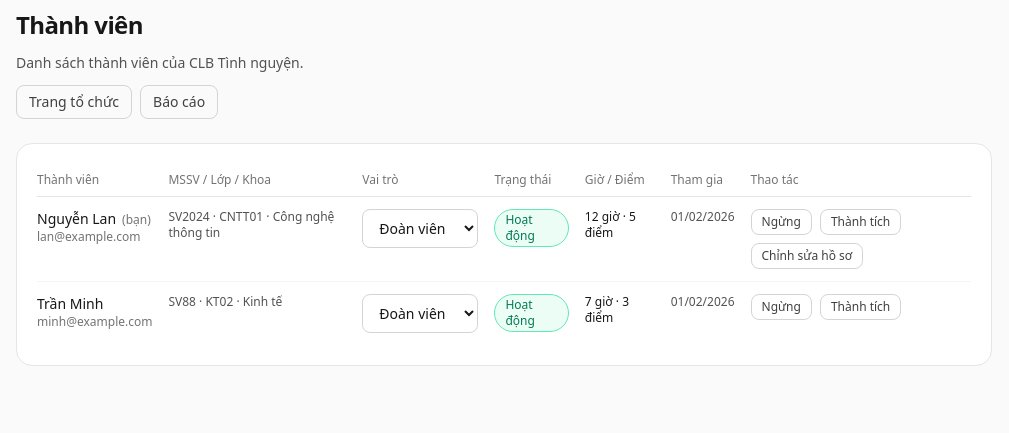
Test: MembersView › surfaces the last_admin error from a rejected PATCH
Select "Ban chấp hành" in the dropdown named "Vai trò của Trần Minh" at (420,314), box [362,294,478,333]
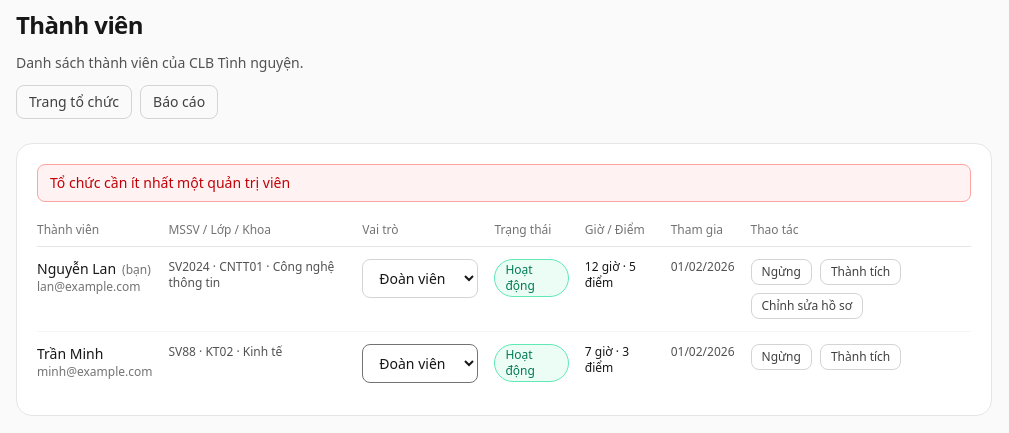
Now the message reads "Tổ chức cần ít nhất một quản trị viên", box [50,173,290,192]
